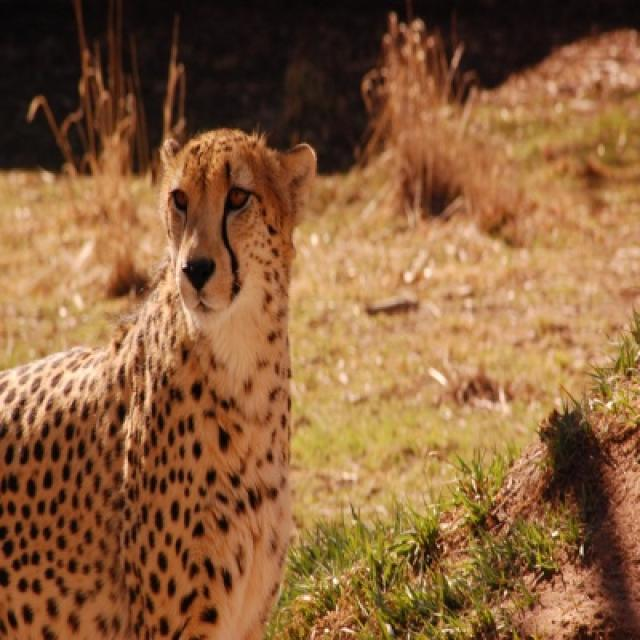Cheetah: (0, 130, 315, 638)
